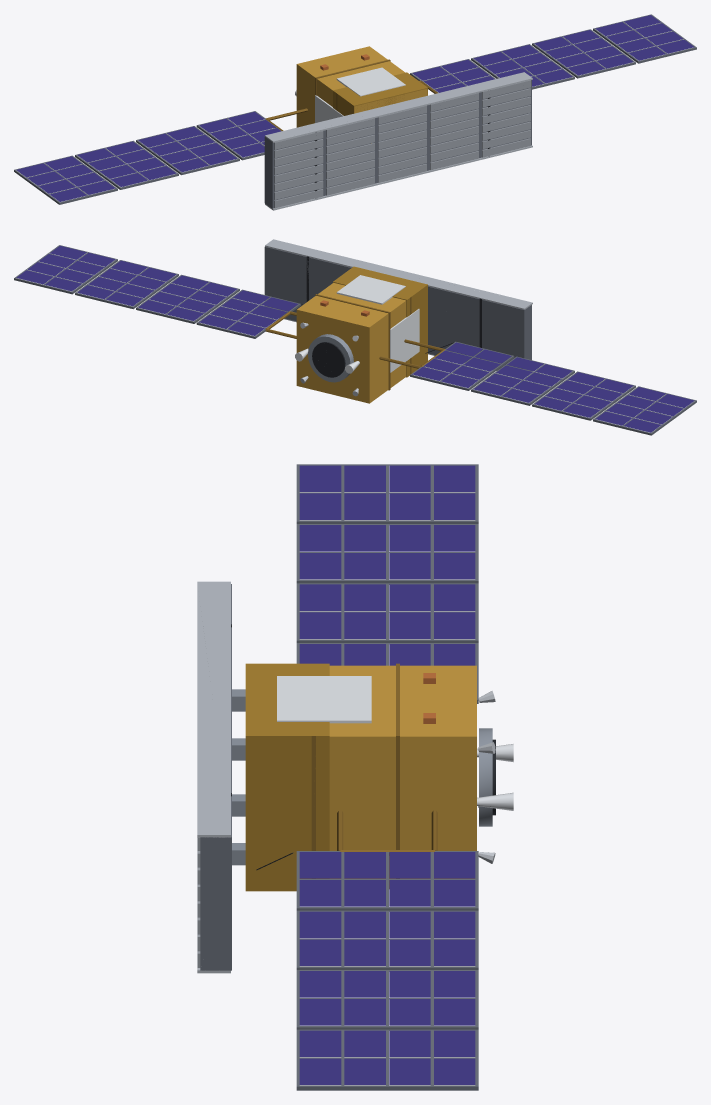
File: cosmo-skymed.glb
3 views of the same model, one above another, from view 1: azimuth 30°, elevation 25°; view 2: azimuth 150°, elevation 25°; view 3: azimuth 270°, elevation 25° (orthographic). The views are drawn at different scales.
Visible parts, largest first — view 1: body, solar-panel, foil; view 2: body, solar-panel, foil; view 3: solar-panel, body, foil.
Part boxes in pixels (bbox=[...]): body: bbox=[14, 14, 696, 210]; solar-panel: bbox=[16, 15, 694, 201]; foil: bbox=[296, 46, 427, 143]; body: bbox=[14, 239, 696, 435]; solar-panel: bbox=[16, 245, 694, 432]; foil: bbox=[296, 266, 427, 403]; solar-panel: bbox=[299, 465, 475, 1084]; body: bbox=[197, 464, 513, 1090]; foil: bbox=[245, 663, 476, 891].
Size of the model in its own units: 14 by 1.88 by 3.01.
